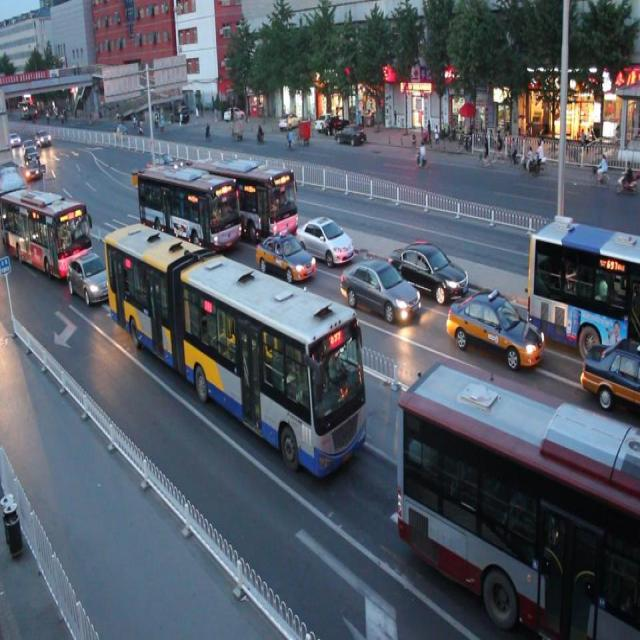car: (446, 294, 544, 382), (337, 258, 416, 331), (390, 243, 468, 309), (578, 336, 640, 406), (253, 230, 314, 289), (294, 214, 352, 273), (67, 251, 113, 304)
van: (102, 218, 366, 482), (396, 359, 640, 640), (525, 221, 640, 346), (136, 160, 240, 262), (191, 153, 298, 248), (1, 182, 90, 272)
